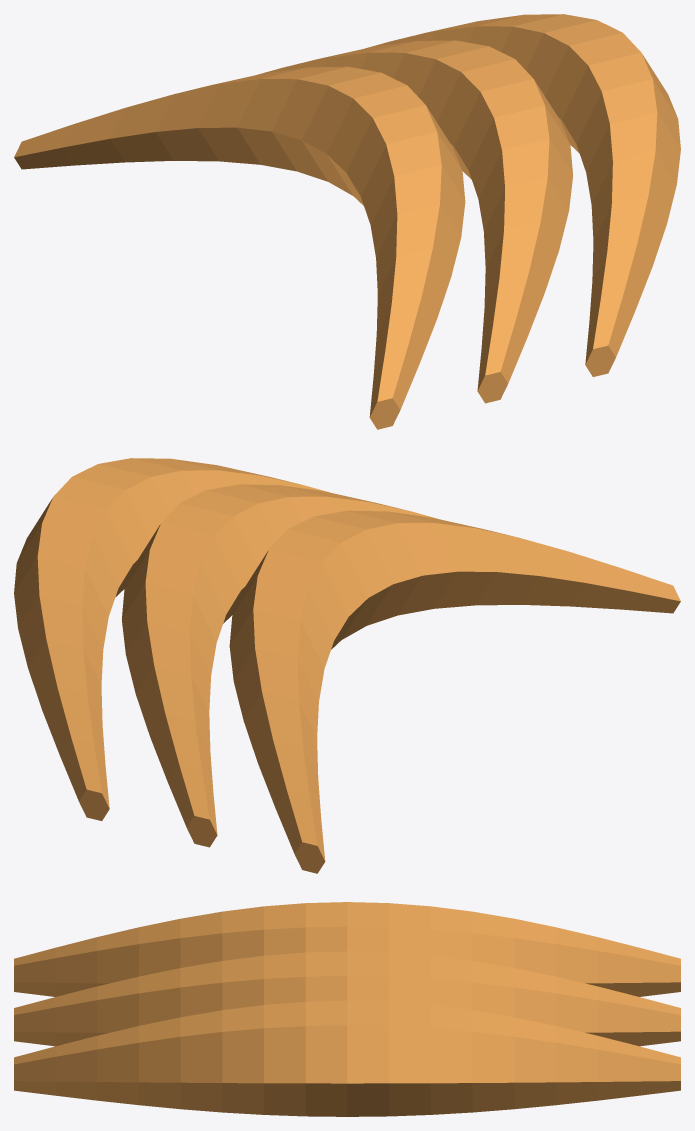
Rendered from supermarket-operations-banana-bunch-41551941__26903.glb.
3 renders of one model, top to bottom at view 1: azimuth 30°, elevation 25°; view 2: azimuth 150°, elevation 25°; view 3: azimuth 270°, elevation 25°, orthographic. The views are drawn at different scales.
Parts seen in each view (by area): view 1: banana-bunch; view 2: banana-bunch; view 3: banana-bunch.
Part boxes in pixels (x1,y1,x2,y2): banana-bunch: [14, 14, 680, 429]; banana-bunch: [14, 458, 680, 873]; banana-bunch: [14, 902, 680, 1116].
Bounding box in the file's own units: 0.119 × 0.0406 × 0.16.
